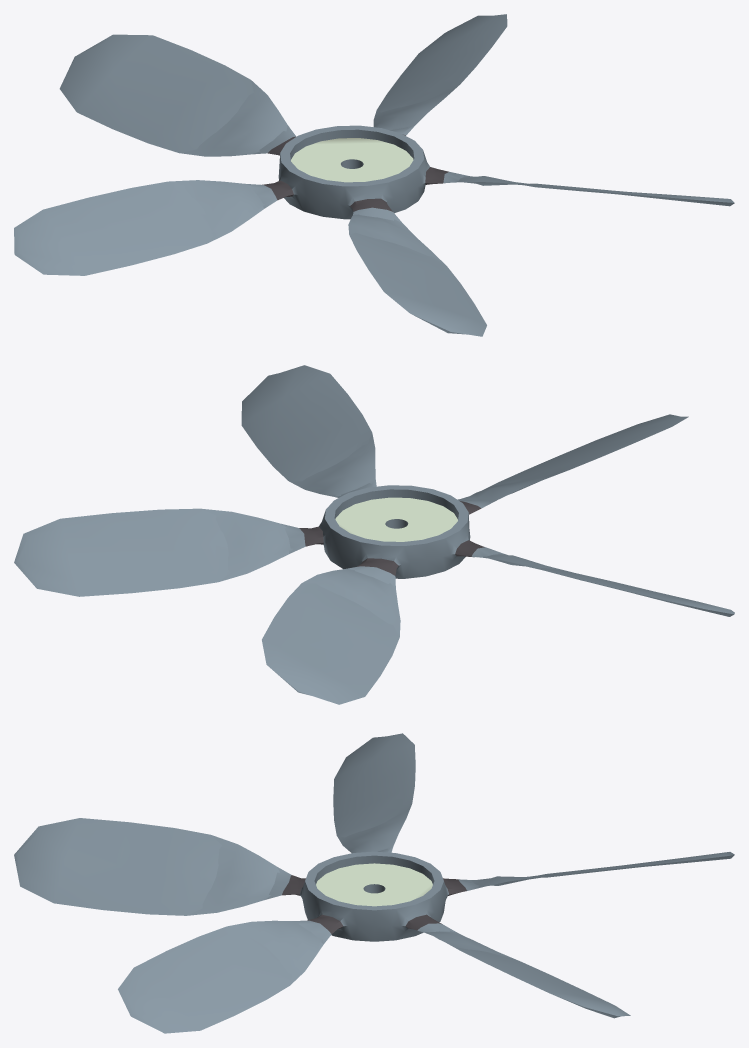
File: Fan Propeller.fbx
3 renders of one model, top to bottom at view 1: azimuth 30°, elevation 25°; view 2: azimuth 150°, elevation 25°; view 3: azimuth 270°, elevation 25°, orthographic. The views are drawn at different scales.
Visible parts, largest first — view 1: Propella fan; view 2: Propella fan; view 3: Propella fan.
Boxes of the visible parts, x1,y1,x2,y2 form: Propella fan: (14,14,734,336); Propella fan: (14,365,734,704); Propella fan: (14,733,734,1033).
Size of the model in its own units: 898 by 972 by 66.43.
